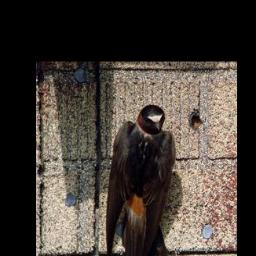Swallow: (104, 103, 175, 256)
